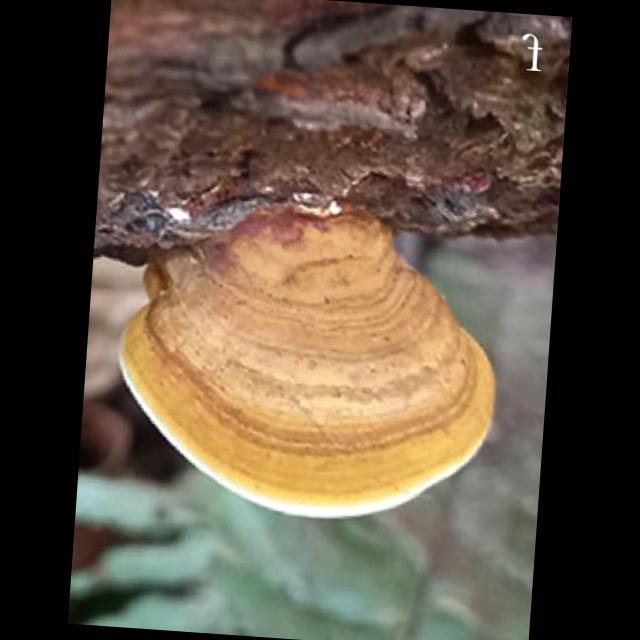ganoderma: (104, 186, 513, 534)
